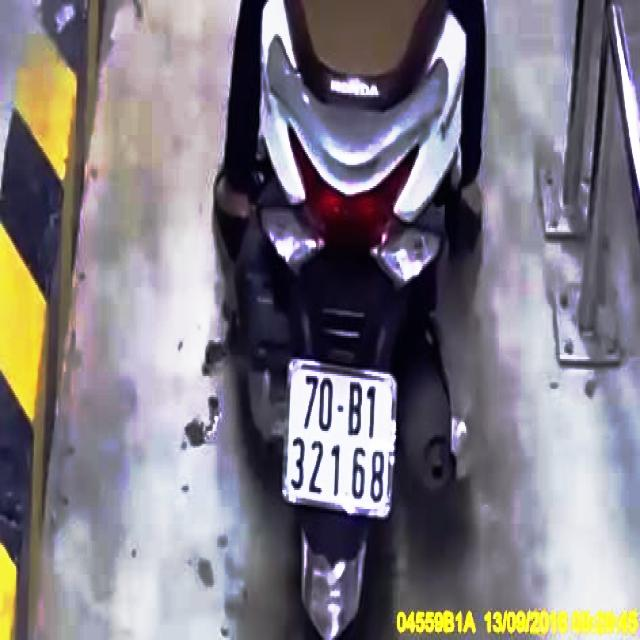license_plate: (283, 359, 397, 517)
